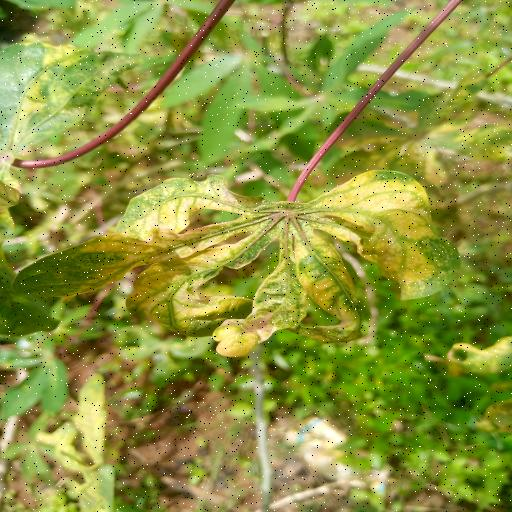Cassava_Mosaic: (0, 176, 458, 360)
